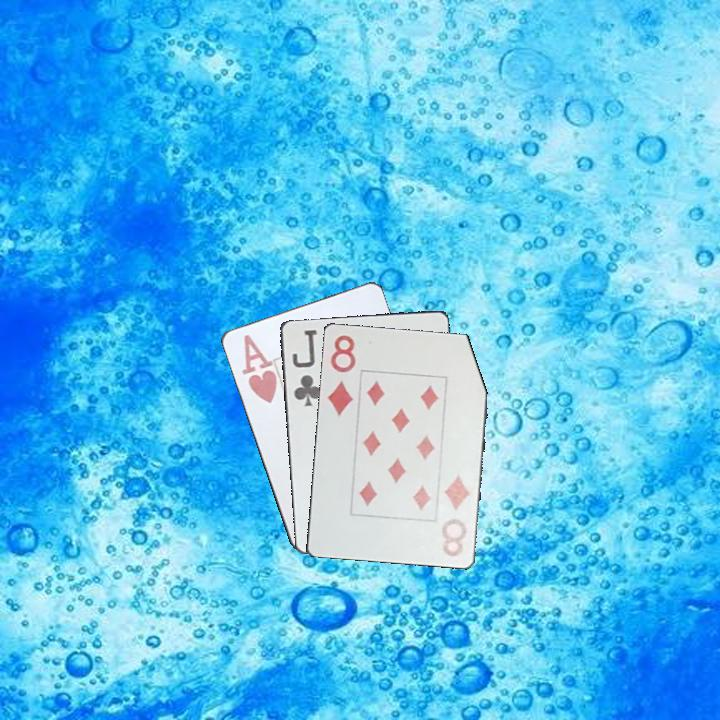8d: (323, 331, 359, 419), (438, 471, 472, 559)
Ah: (238, 331, 279, 407)
Jc: (288, 326, 324, 409)
